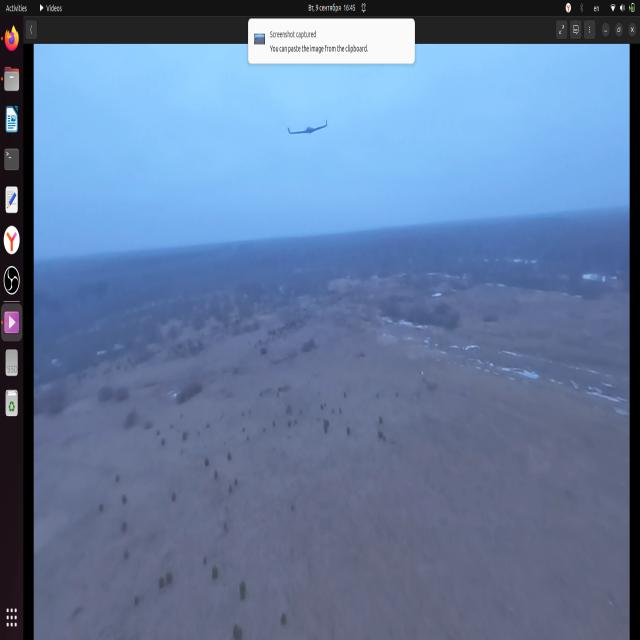planedrone: (285, 114, 330, 142)
